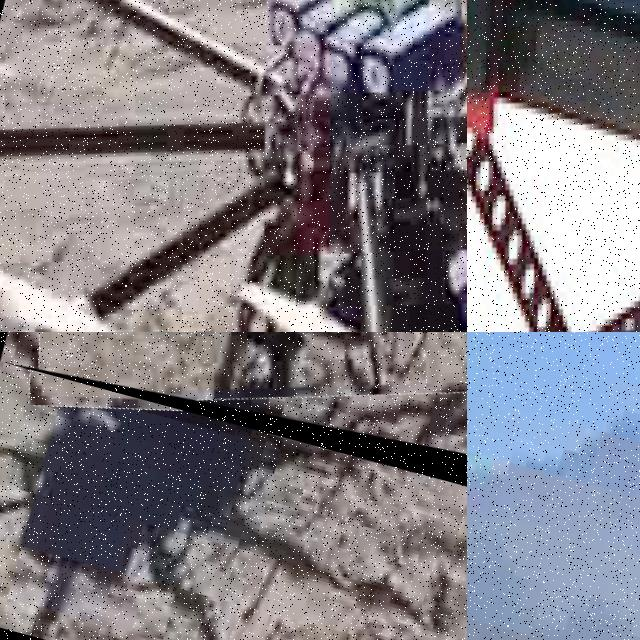0: (0, 0, 467, 332), (0, 332, 467, 525)
drone: (467, 0, 640, 332)
